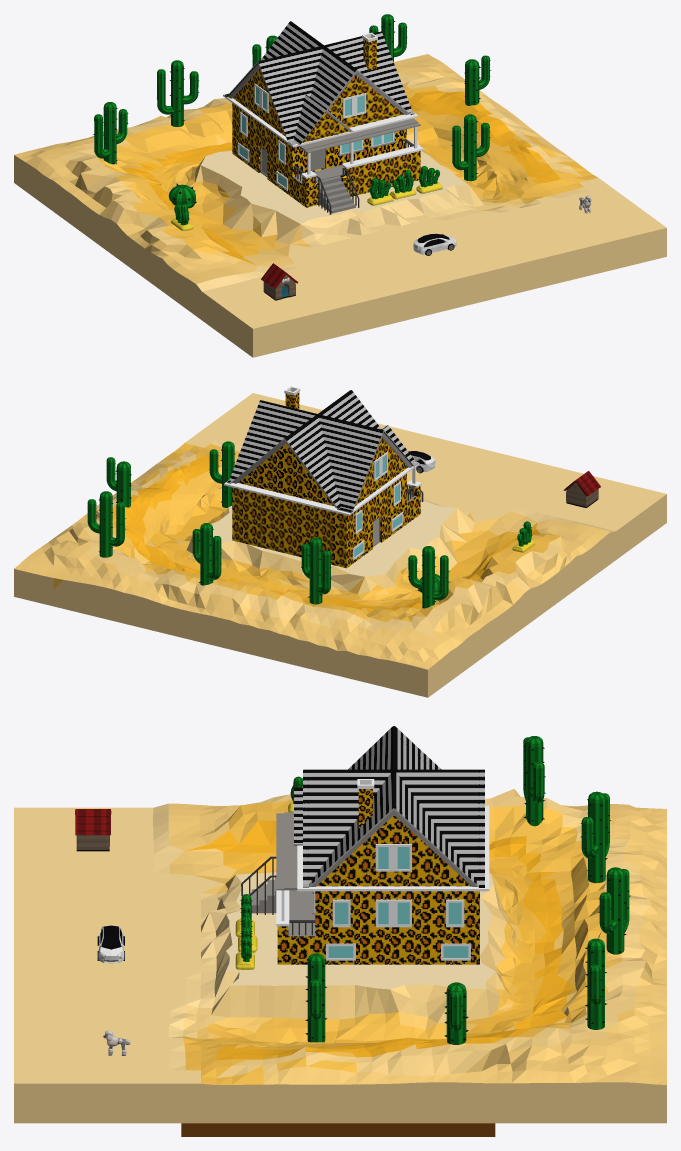
3 renders of one model, top to bottom at view 1: azimuth 30°, elevation 25°; view 2: azimuth 150°, elevation 25°; view 3: azimuth 270°, elevation 25°, orthographic. The views are drawn at different scales.
Visible parts, largest first — view 1: Cube.001, Cube.637, Cylinder.044, Cylinder.037, Cylinder.045, Cylinder.038, OBJRANDOM_DOGHOUSE, Cylinder.042, VEHICLES_TESLA, Cylinder.039, Cylinder.041; view 2: Cube.001, Cube.637, Cylinder.042, Cylinder.045, Cylinder.044, Cylinder.043, Cylinder.037, Cylinder.038, OBJRANDOM_DOGHOUSE; view 3: Cube.001, Cube.637, UNDERGROUND_ART_PIECE_VAN_GOGH, Cylinder.043, Cylinder.044, Cylinder.045, Cylinder.037, Cylinder.042, OBJRANDOM_DOGHOUSE, Cylinder.038, VEHICLES_TESLA, Cylinder.041.
Part boxes in pixels (x1,y1,x2,y2): Cube.001: (14,54,666,357); Cube.637: (223,21,423,214); Cylinder.044: (157,60,199,126); Cylinder.037: (451,114,490,181); Cylinder.045: (93,102,128,164); Cylinder.038: (464,55,490,105); OBJRANDOM_DOGHOUSE: (261,263,298,300); Cylinder.042: (369,14,407,62); VEHICLES_TESLA: (413,233,456,255); Cylinder.039: (367,178,393,205); Cylinder.041: (416,166,442,193); Cube.001: (14,393,666,697); Cube.637: (224,386,423,568); Cylinder.042: (87,491,125,557); Cylinder.045: (408,546,449,608); Cylinder.044: (301,537,331,604); Cylinder.043: (192,523,221,585); Cylinder.037: (209,441,239,507); Cylinder.038: (106,457,131,507); OBJRANDOM_DOGHOUSE: (563,471,600,507); Cube.001: (14,789,666,1123); Cube.637: (241,726,489,964); UNDERGROUND_ART_PIECE_VAN_GOGH: (181,1123,495,1136); Cylinder.043: (598,867,630,954); Cylinder.044: (580,791,610,883); Cylinder.045: (523,736,545,826); Cylinder.037: (305,953,327,1042); Cylinder.042: (585,938,606,1029); OBJRANDOM_DOGHOUSE: (75,809,111,851); Cylinder.038: (444,982,468,1044); VEHICLES_TESLA: (97,925,124,963); Cylinder.041: (235,927,254,969).
Size of the model in its own units: 4002 by 1752 by 4001.
Materials: 32 (4 with a texture image).
